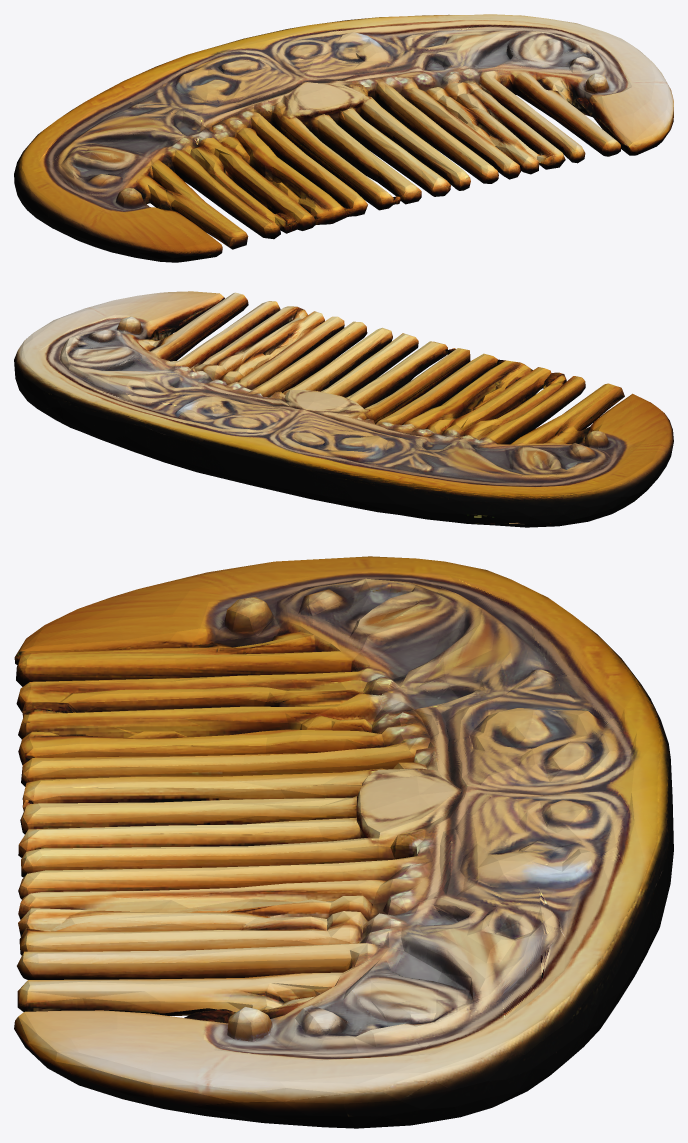
The model's file is wooden-beard-comb-vintage.jpeg.glb.
The picture shows the model from 3 angles, top to bottom: view 1: azimuth 30°, elevation 25°; view 2: azimuth 150°, elevation 25°; view 3: azimuth 270°, elevation 25°; orthographic projection. The views are drawn at different scales.
Parts seen in each view (by area): view 1: world; view 2: world; view 3: world.
Part boxes in pixels (left/top/right/bottom): world: left=14, top=14, right=673, bottom=262; world: left=14, top=291, right=673, bottom=527; world: left=14, top=556, right=673, bottom=1128.
Bounding box in the file's own units: 1 × 0.0717 × 0.5217.
1 material, 1 textured.
